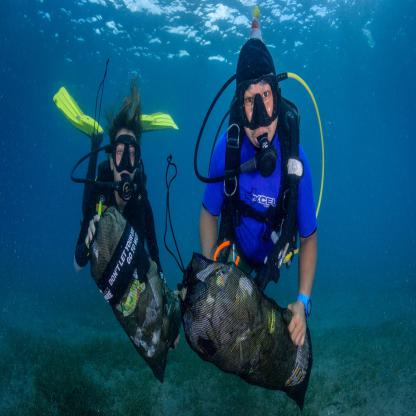waste: (180, 255, 312, 410), (90, 204, 181, 384)
